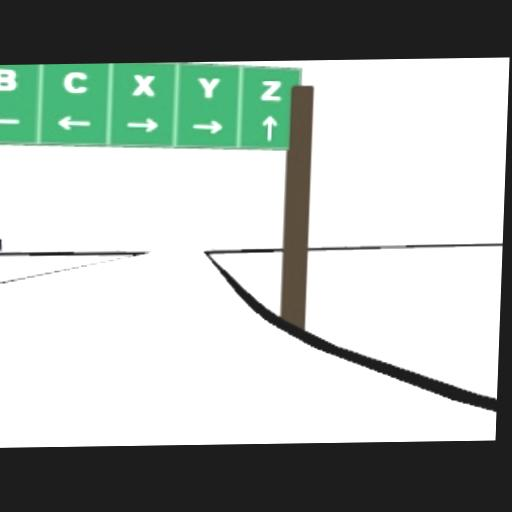B: (0, 66, 16, 90)
C: (63, 68, 87, 92)
Left: (56, 113, 91, 129), (0, 111, 21, 126)
Right: (125, 116, 160, 132), (192, 118, 223, 132)
Straight: (261, 114, 277, 140)
X: (132, 72, 155, 94)
Y: (196, 76, 219, 96)
Z: (259, 77, 282, 99)
